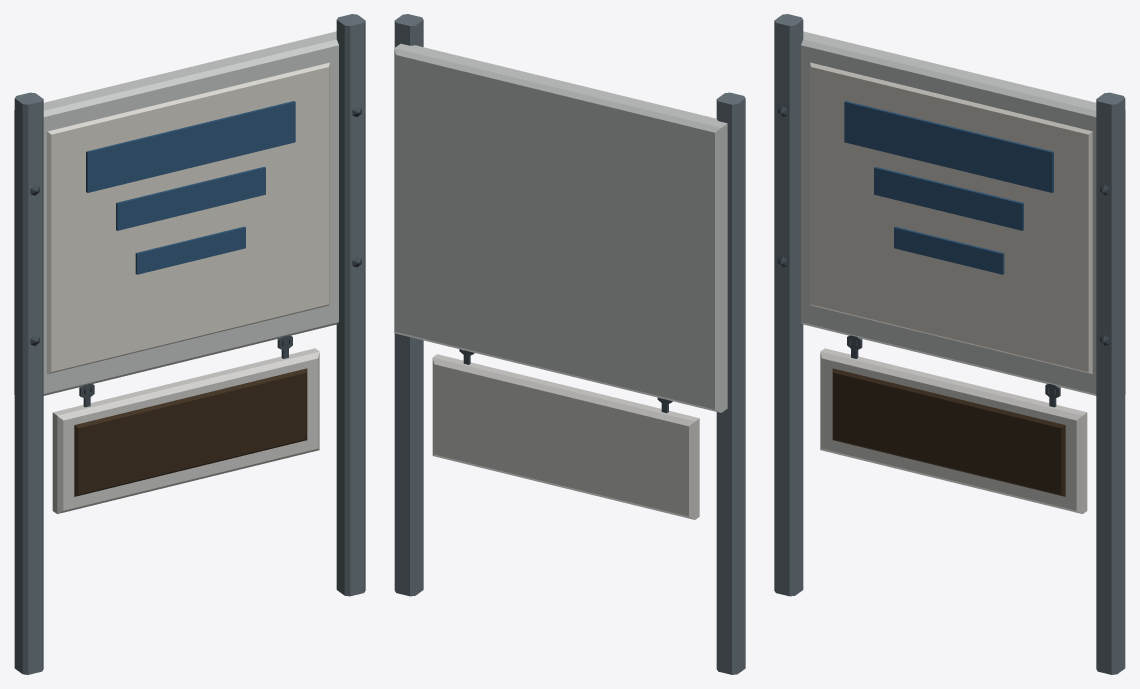
The model's file is yard-sign-f1882f.glb.
3 views of the same model, side by side, from view 1: azimuth 30°, elevation 25°; view 2: azimuth 150°, elevation 25°; view 3: azimuth 330°, elevation 25° (orthographic).
Parts seen in each view (by area): view 1: sign-body, rider-mesh; view 2: sign-body, rider-mesh; view 3: sign-body, rider-mesh.
Boxes of the visible parts, x1=… form: sign-body: x1=14, y1=14, x2=365, y2=674; rider-mesh: x1=52, y1=336, x2=319, y2=513; sign-body: x1=394, y1=14, x2=745, y2=674; rider-mesh: x1=432, y1=350, x2=699, y2=519; sign-body: x1=774, y1=14, x2=1125, y2=674; rider-mesh: x1=820, y1=336, x2=1087, y2=513.
Size of the model in its own units: 0.692 by 1.1 by 0.079.
